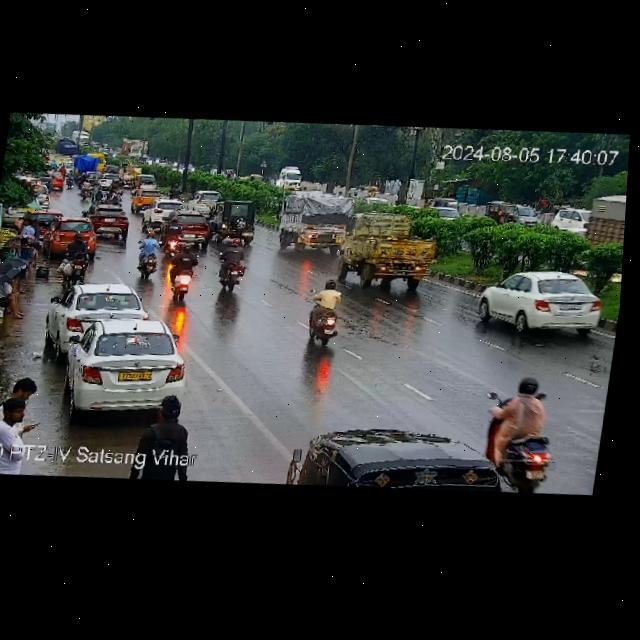car: (287, 413, 553, 505), (45, 311, 196, 425), (476, 261, 611, 339), (51, 277, 151, 341), (209, 196, 264, 245), (163, 211, 218, 249), (48, 216, 100, 252), (87, 205, 136, 239), (142, 200, 186, 228), (484, 198, 520, 227), (129, 186, 156, 214), (186, 188, 215, 213), (45, 171, 65, 192), (138, 173, 158, 189)
motorcycle: (496, 379, 549, 457), (302, 279, 349, 349), (209, 240, 250, 293), (132, 228, 172, 279), (167, 248, 200, 302), (59, 231, 95, 278), (162, 223, 188, 258), (275, 163, 302, 192), (103, 176, 127, 206), (76, 172, 100, 196), (59, 162, 77, 187), (131, 173, 141, 193)
person: (136, 392, 201, 457), (0, 400, 41, 454), (0, 274, 31, 319), (6, 374, 39, 404), (18, 216, 45, 246)
truck: (333, 207, 449, 296), (277, 190, 349, 257), (587, 186, 627, 254), (119, 137, 153, 164), (68, 130, 96, 152)
